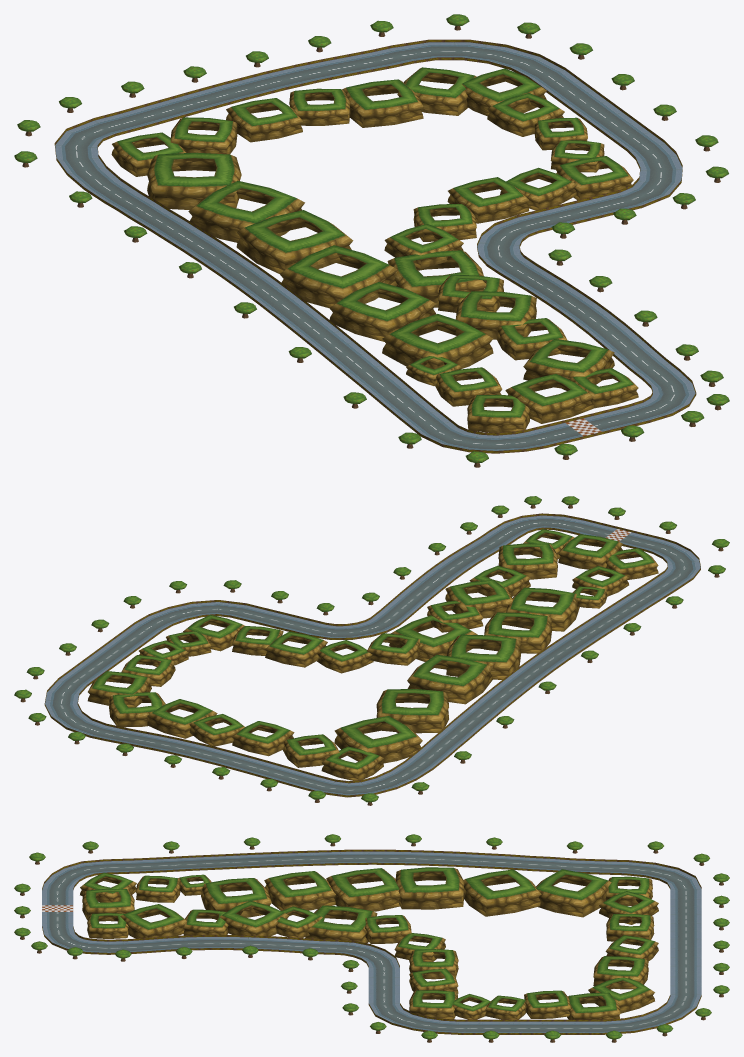
File: track01_1.FBX
The picture shows the model from 3 angles, top to bottom: view 1: azimuth 30°, elevation 25°; view 2: azimuth 150°, elevation 25°; view 3: azimuth 270°, elevation 25°; orthographic projection. The views are drawn at different scales.
Visible parts, largest first — view 1: cliff, road, fence; view 2: cliff, road, fence; view 3: cliff, road, fence.
Part boxes in pixels (<box>): cliff: <box>111,67,638,432</box>; road: <box>55,42,695,450</box>; fence: <box>54,39,696,453</box>; cliff: <box>87,529,658,780</box>; road: <box>45,515,700,795</box>; fence: <box>44,513,700,797</box>; cliff: <box>80,867,658,1019</box>; road: <box>42,851,701,1032</box>; fence: <box>42,849,701,1034</box>.
Size of the model in its own units: 16100 by 1009 by 24807.
